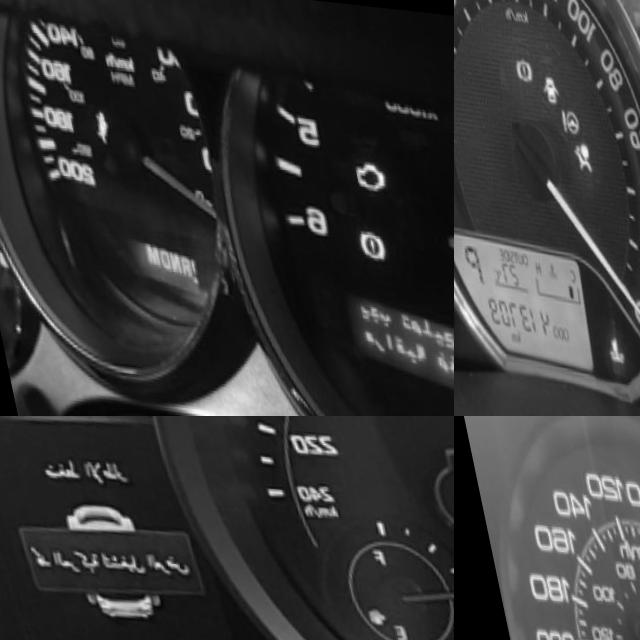Doors: (530, 63, 554, 102)
Engine cooling system: (583, 320, 610, 365)
